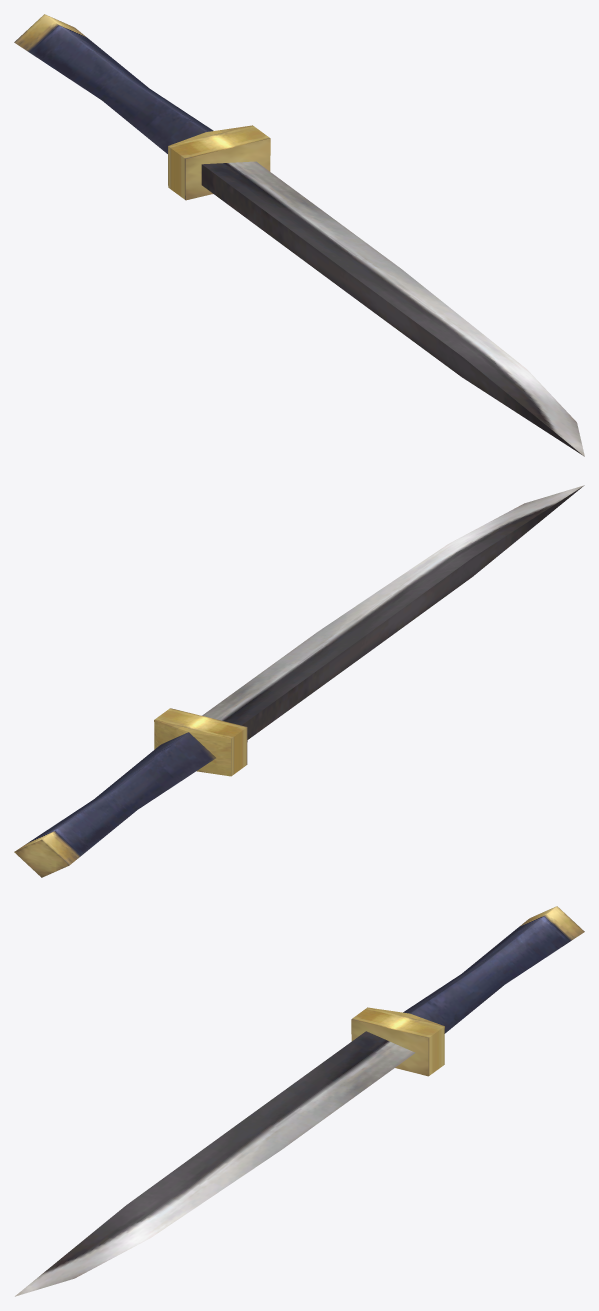
3 renders of one model, top to bottom at view 1: azimuth 30°, elevation 25°; view 2: azimuth 150°, elevation 25°; view 3: azimuth 330°, elevation 25°, orthographic. The views are drawn at different scales.
Parts seen in each view (by area): view 1: i2016; view 2: i2016; view 3: i2016.
Part boxes in pixels (bbox=[...]): i2016: bbox=[14, 14, 584, 456]; i2016: bbox=[14, 485, 584, 877]; i2016: bbox=[15, 906, 584, 1296].
Size of the model in its own units: 7.74 by 3.7 by 89.82.
1 material, 1 textured.
